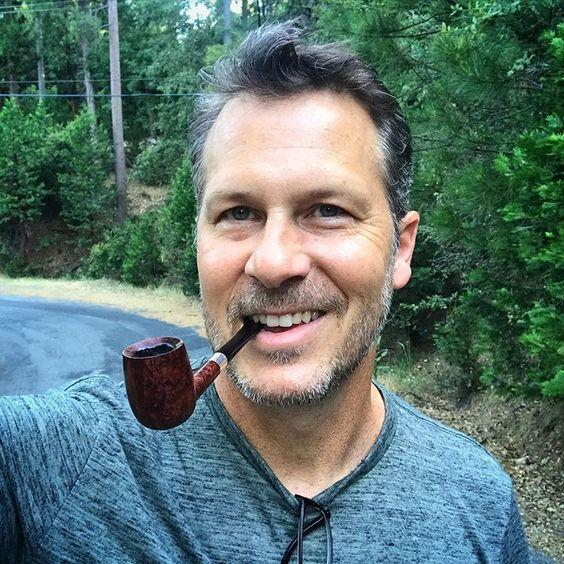trubka: (123, 318, 263, 429)
